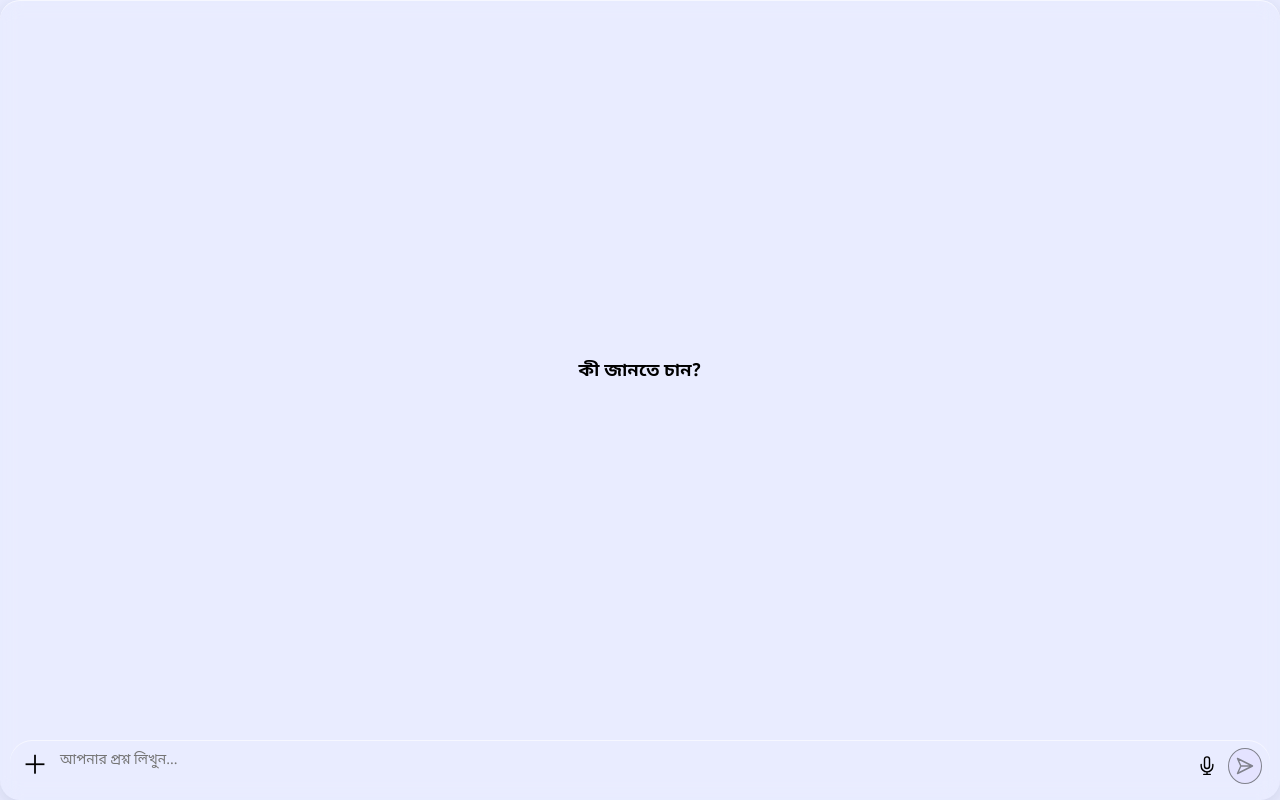
Scenario: submits text only after Send, keeps language and renders supplied response actions
Type "আমি একটি স্বপ্ন দেখেছি" into the text box at (621,765), box [56,746,1186,784]
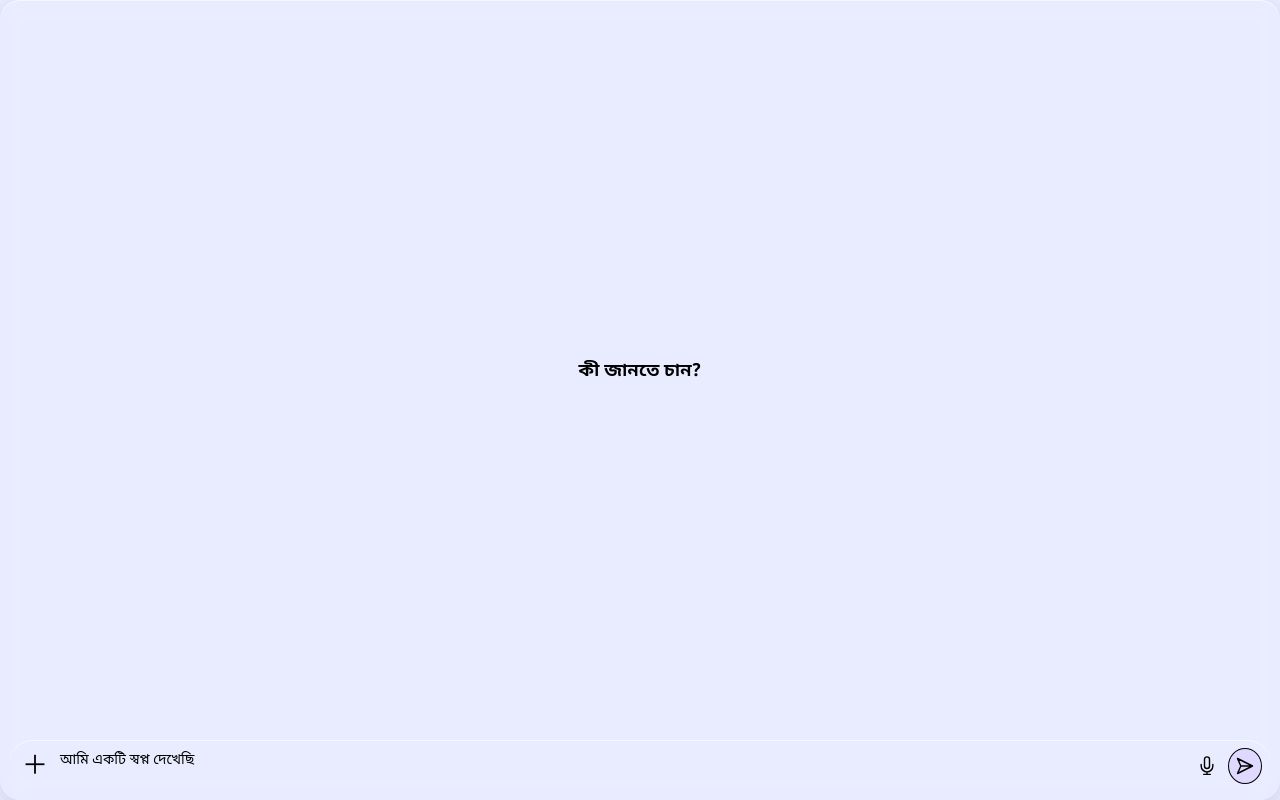
Click the button named "পাঠান" at (1245,766), box [1228,748,1262,784]
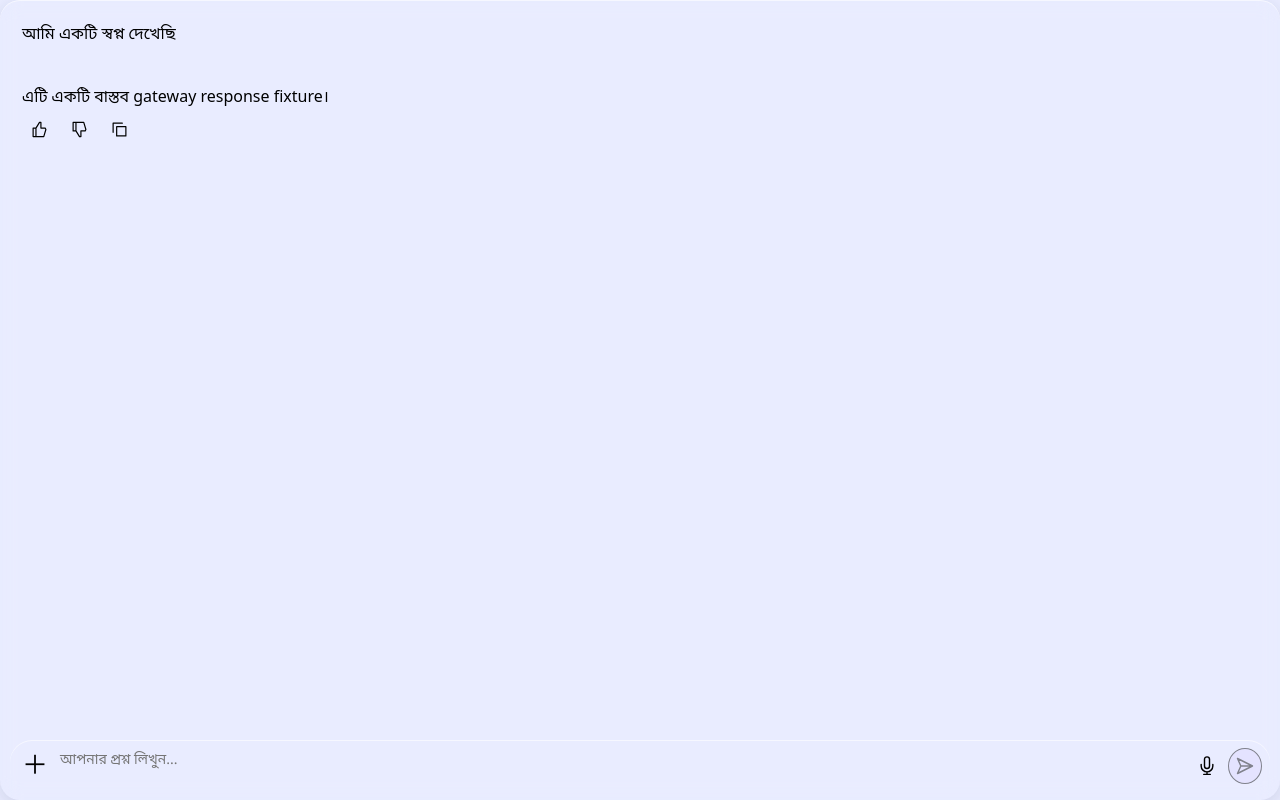
Now the text "এটি একটি বাস্তব gateway response fixture।" is shown, box [22,87,329,109]
Now the button named "কপি করুন" is shown, box [102,112,136,146]
